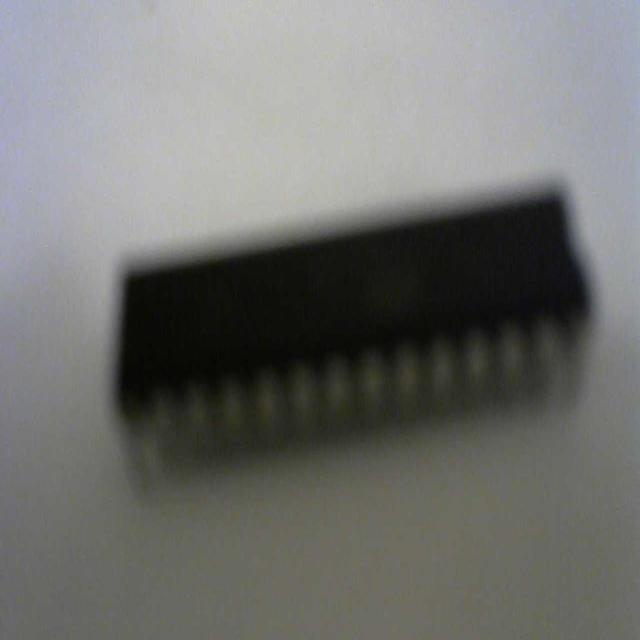atmega: (109, 178, 596, 484)
